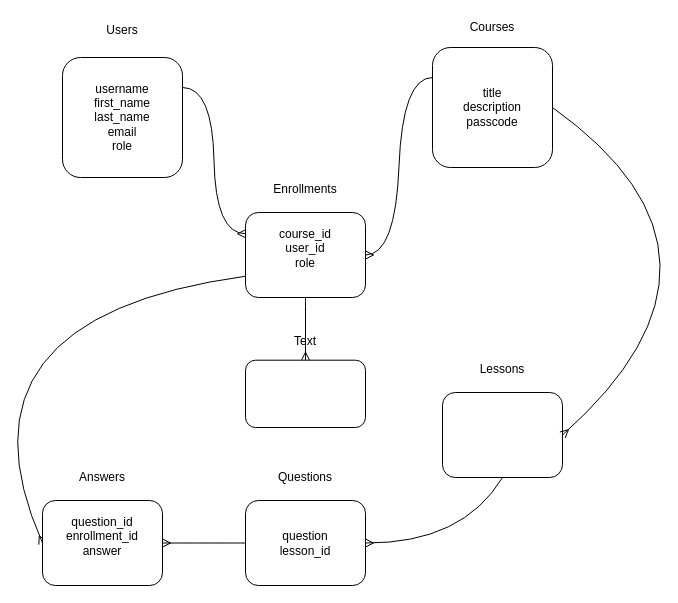
Image size: 678x603. Some labels were removed from this diagram. The centre of each missing label's shape, as x and y in pixels:
"course_id title content lesson_no" belongs at point 502,435.
"enrollment_id message" belongs at point 305,393.
